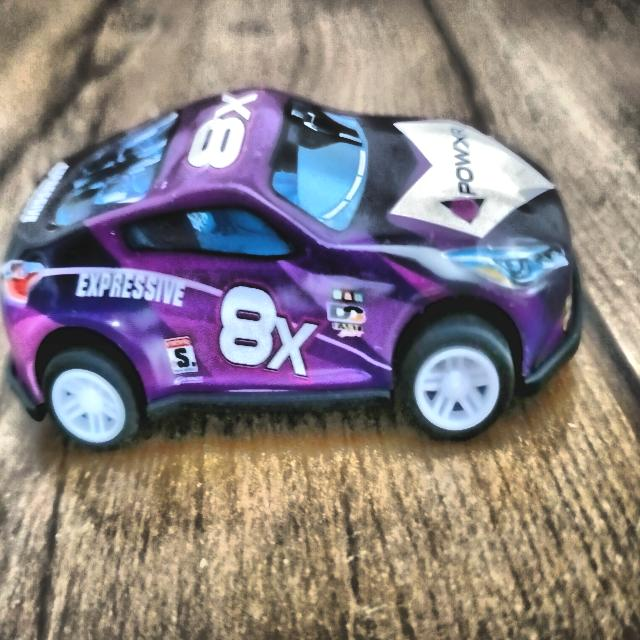Car: (0, 91, 587, 462)
